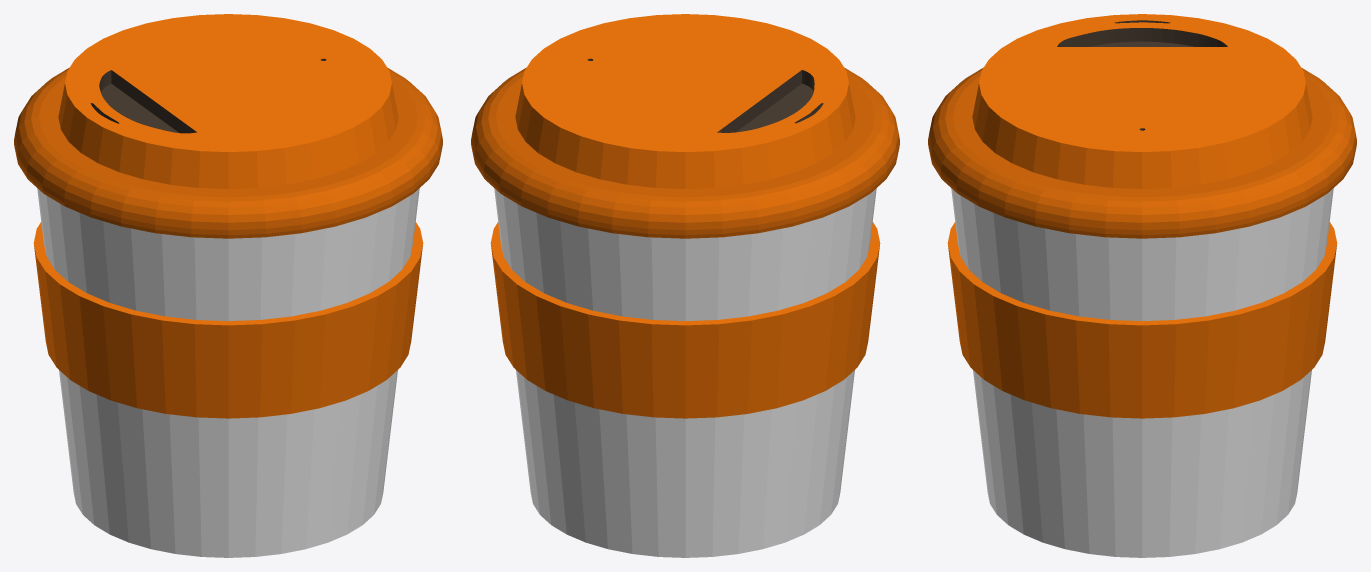
Rendered from кофе2.fbx.
3 views of the same model, side by side, from view 1: azimuth 30°, elevation 25°; view 2: azimuth 150°, elevation 25°; view 3: azimuth 270°, elevation 25° (orthographic).
Parts seen in each view (by area): view 1: Труба_1, Цилиндр_2, Труба, Цилиндр_3, Выдавливание_2, Шапка_1; view 2: Труба_1, Цилиндр_2, Труба, Цилиндр_3, Выдавливание_2, Шапка_1; view 3: Труба_1, Цилиндр_2, Труба, Цилиндр_3, Выдавливание_2.
Boxes of the visible parts, left/top/right/bottom form: Труба_1: left=37, top=188, right=419, bottom=557; Цилиндр_2: left=58, top=14, right=398, bottom=188; Труба: left=33, top=222, right=423, bottom=418; Цилиндр_3: left=14, top=67, right=442, bottom=238; Выдавливание_2: left=99, top=70, right=196, bottom=133; Шапка_1: left=101, top=83, right=178, bottom=132; Труба_1: left=494, top=188, right=876, bottom=557; Цилиндр_2: left=515, top=14, right=855, bottom=188; Труба: left=490, top=222, right=880, bottom=418; Цилиндр_3: left=471, top=67, right=899, bottom=238; Выдавливание_2: left=717, top=70, right=814, bottom=132; Шапка_1: left=736, top=83, right=813, bottom=132; Труба_1: left=951, top=188, right=1333, bottom=557; Цилиндр_2: left=972, top=14, right=1312, bottom=188; Труба: left=947, top=222, right=1337, bottom=418; Цилиндр_3: left=928, top=67, right=1356, bottom=238; Выдавливание_2: left=1057, top=28, right=1227, bottom=46.
Size of the model in its own units: 15.09 by 15.89 by 15.09.
